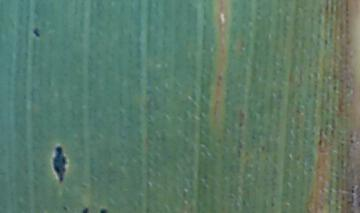tarspot: (51, 145, 68, 183), (31, 27, 41, 38), (322, 38, 329, 51), (317, 138, 324, 148), (349, 187, 357, 195), (61, 205, 70, 212), (331, 84, 338, 93), (80, 206, 88, 213), (348, 138, 356, 145), (98, 207, 107, 213)
